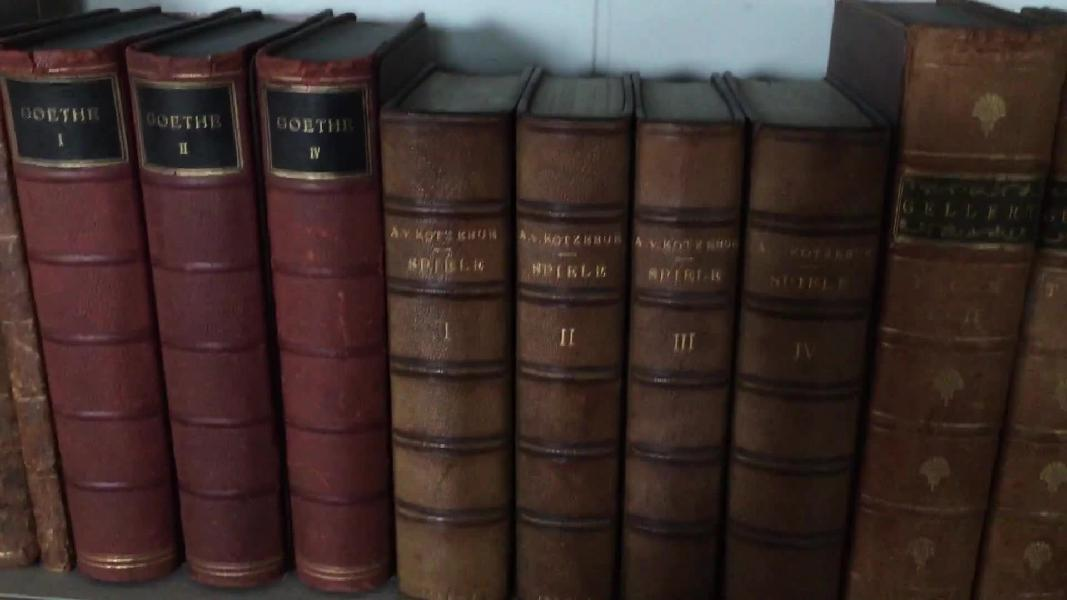Aa6-11_13: (6, 32, 391, 600)
Aa6-14_17: (378, 104, 890, 600)
